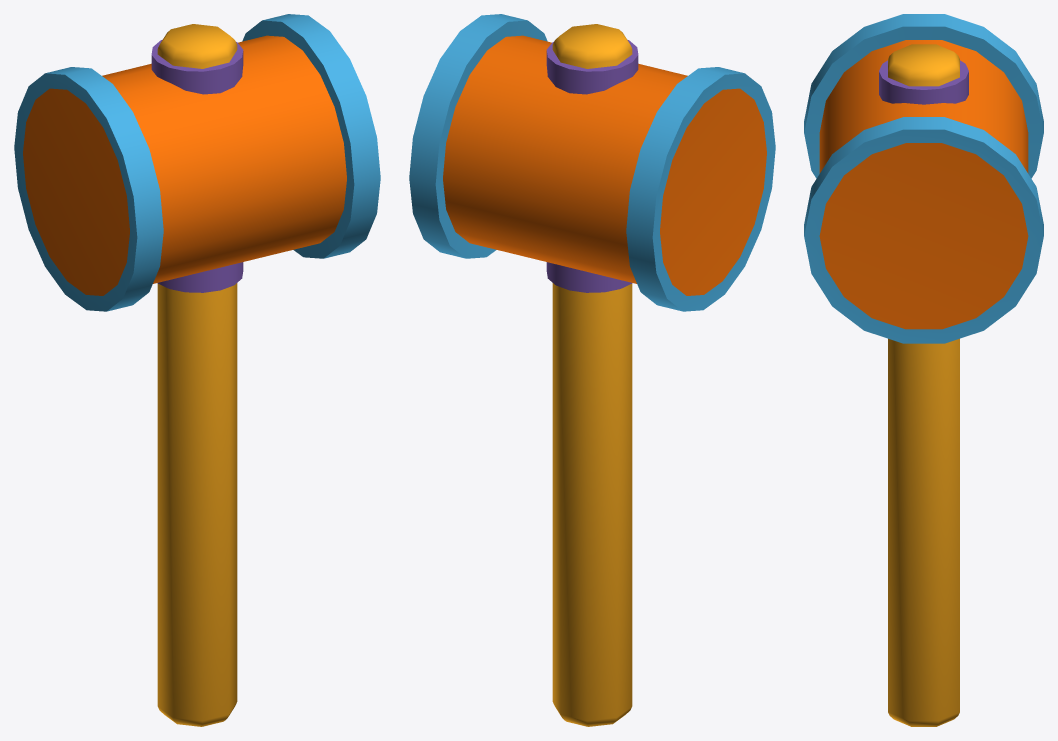
Rendered from Ground_Hammer_03.fbx.
3 renders of one model, left to right at view 1: azimuth 30°, elevation 25°; view 2: azimuth 150°, elevation 25°; view 3: azimuth 270°, elevation 25°, orthographic. The views are drawn at different scales.
Parts seen in each view (by area): view 1: Obstacle_Ground_Hammer_03; view 2: Obstacle_Ground_Hammer_03; view 3: Obstacle_Ground_Hammer_03.
Boxes of the visible parts, box(x1,y1,x2,y2) form: Obstacle_Ground_Hammer_03: box(14, 14, 380, 726); Obstacle_Ground_Hammer_03: box(409, 14, 775, 726); Obstacle_Ground_Hammer_03: box(804, 14, 1043, 726).
Bounding box in the file's own units: 146 × 388 × 128.
1 material, 1 textured.
